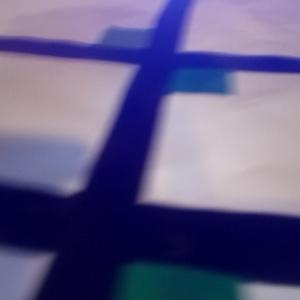bottom_right: (57, 218, 237, 300), (143, 52, 226, 94)
top_left: (100, 27, 174, 61)
